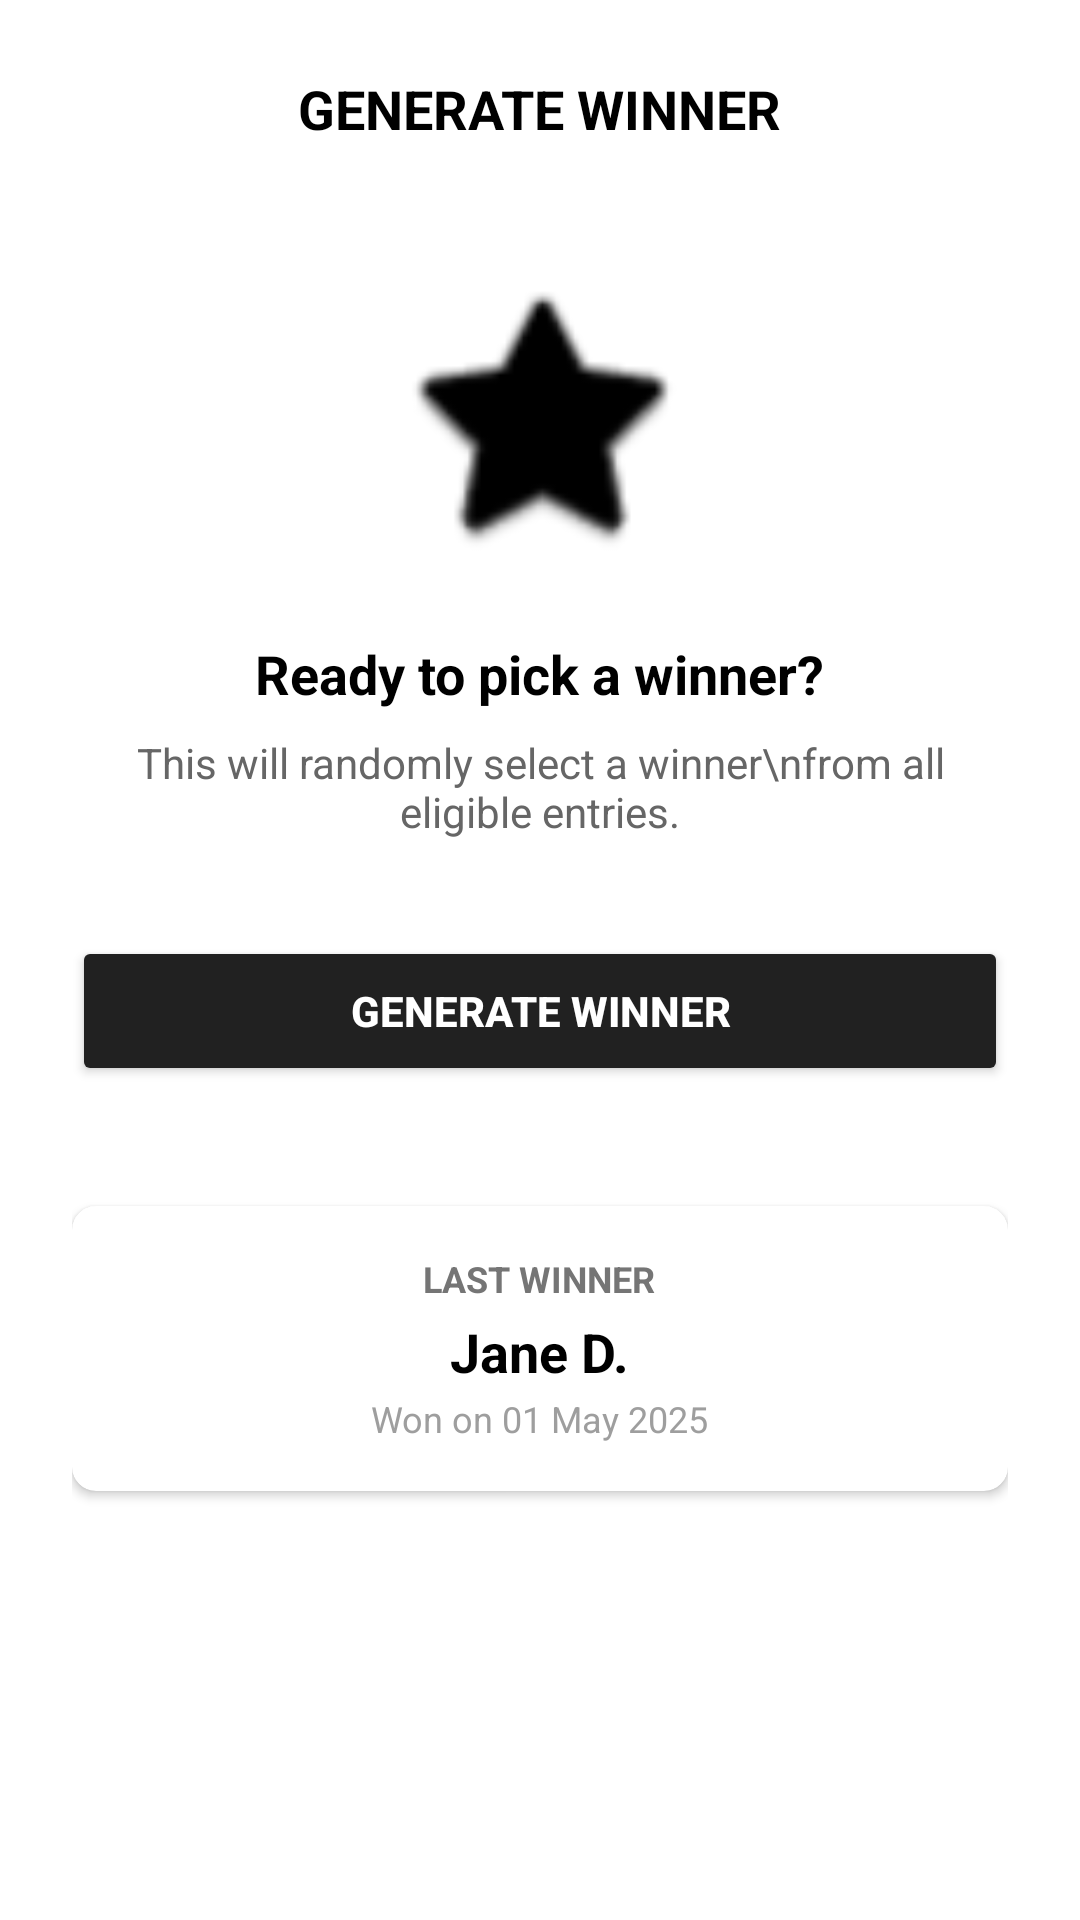

Screen size 1080px×1920px. Icon name, then its center in pixels as (x=x, y=y):
star on: (x=542, y=417)
